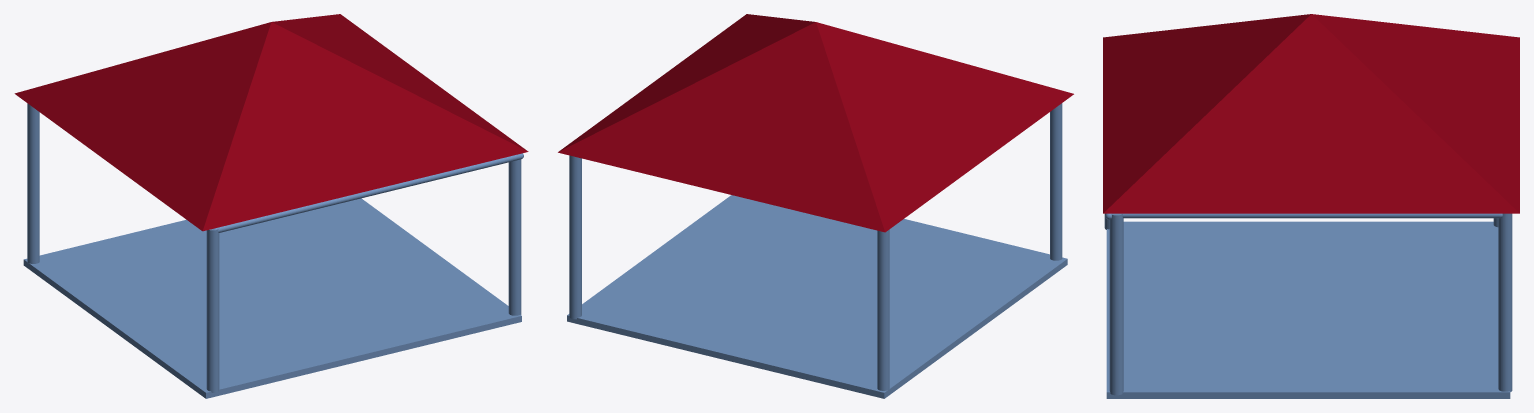
The model's file is Tazas-Estructura-obj.obj.
3 renders of one model, left to right at view 1: azimuth 30°, elevation 25°; view 2: azimuth 150°, elevation 25°; view 3: azimuth 270°, elevation 25°, orthographic. The views are drawn at different scales.
Parts seen in each view (by area): view 1: EstructuraMetalica_Tent, Carpa_Tent.001; view 2: Carpa_Tent.001, EstructuraMetalica_Tent; view 3: Carpa_Tent.001, EstructuraMetalica_Tent.
Boxes of the visible parts, x1,y1,x2,y2 form: EstructuraMetalica_Tent: (23, 103, 523, 398); Carpa_Tent.001: (14, 14, 528, 231); Carpa_Tent.001: (558, 14, 1073, 232); EstructuraMetalica_Tent: (567, 103, 1067, 398); Carpa_Tent.001: (1103, 14, 1519, 213); EstructuraMetalica_Tent: (1104, 213, 1512, 398).
Bounding box in the file's own units: 10.75 × 8.53 × 10.75.
